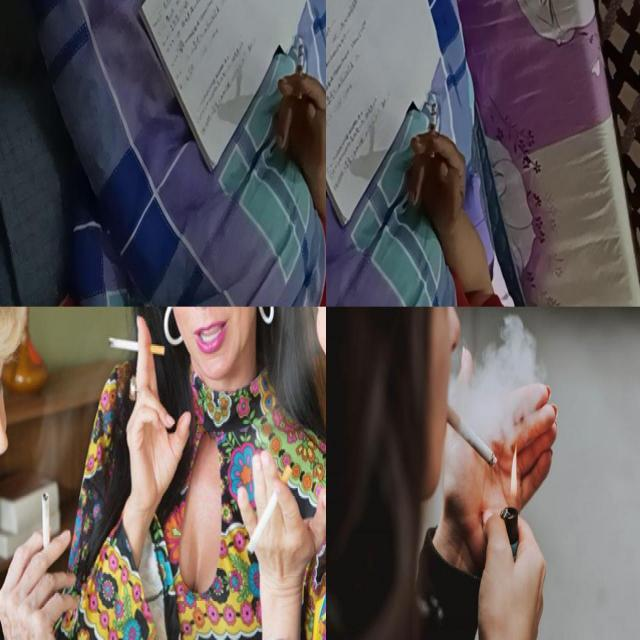smoke: (246, 464, 294, 554), (442, 401, 498, 468), (108, 336, 166, 358), (40, 491, 51, 555), (429, 103, 437, 158), (296, 45, 304, 99)
